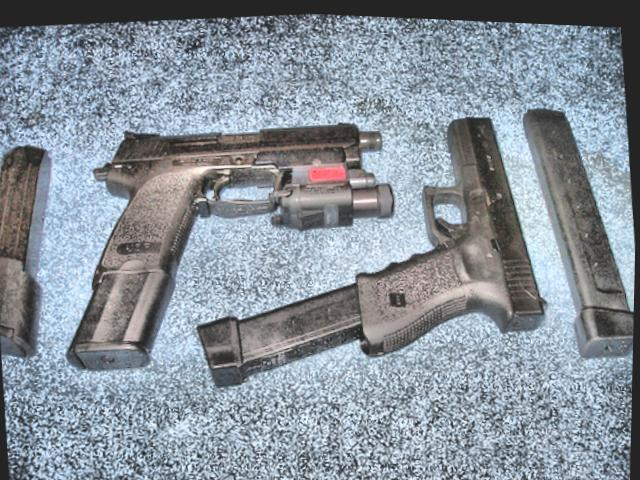pistol: (76, 102, 403, 288), (339, 98, 554, 361)
